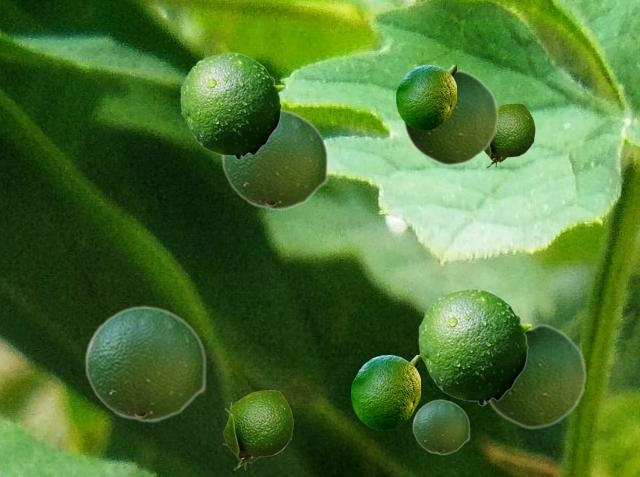dalandan: (84, 305, 206, 422), (418, 288, 531, 405), (180, 52, 284, 159), (221, 108, 328, 210), (488, 322, 586, 429), (402, 68, 498, 166), (222, 390, 292, 469), (351, 355, 419, 429), (396, 65, 455, 129), (485, 103, 534, 167), (412, 399, 469, 454)
